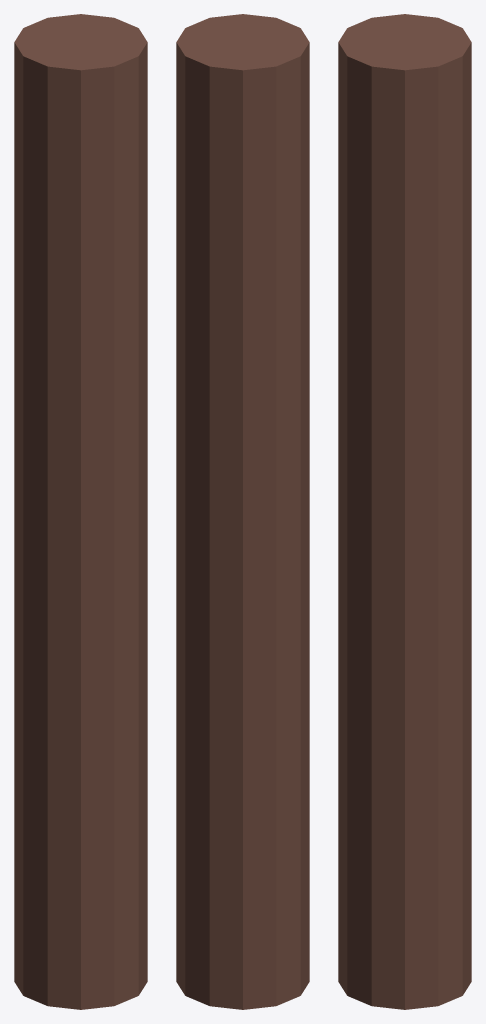
Rendered from model-triangulated.obj.
The picture shows the model from 3 angles, left to right: view 1: azimuth 90°, elevation 25°; view 2: azimuth 150°, elevation 25°; view 3: azimuth 270°, elevation 25°; orthographic projection.
Visible parts, largest first — view 1: group1373352736; view 2: group1373352736; view 3: group1373352736.
Part boxes in pixels (x1=…): group1373352736: x1=14, y1=14, x2=147, y2=1009; group1373352736: x1=176, y1=14, x2=309, y2=1009; group1373352736: x1=338, y1=14, x2=471, y2=1009.
Bounding box in the file's own units: 0.68 × 5.29 × 0.68.
